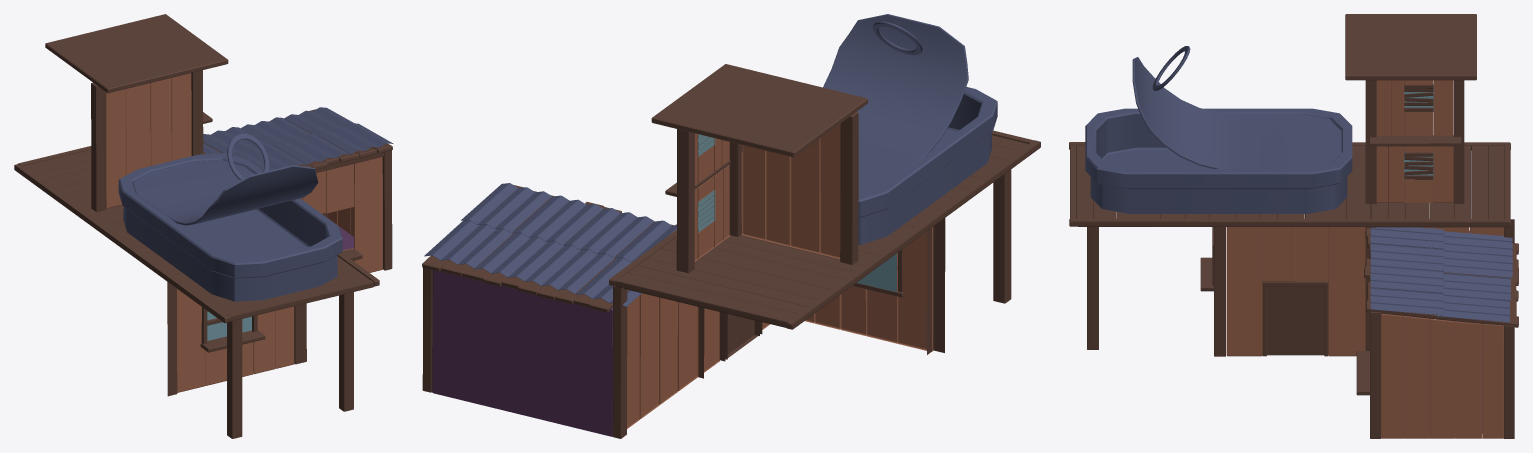
Rendered from GPE_Cabane 1.fbx.
The picture shows the model from 3 angles, left to right: view 1: azimuth 30°, elevation 25°; view 2: azimuth 150°, elevation 25°; view 3: azimuth 270°, elevation 25°; orthographic projection. The views are drawn at different scales.
Parts seen in each view (by area): view 1: METALBoiteConserve, Batpart05, METALCouvercleConserve, WOOD_01_Planche_Toit_56, WOOD01Planche_Toit_48, Planche_Toit_101, WOOD01Planche_Toit_174, WOOD01Planche_Toit_172, Planche_Toit_186, Poto_04, WOOD01Planche_Toit_171, Poto_01 (+27 smaller); view 2: BlockDerriere, METALCouvercleConserve, Batpart05, METALBoiteConserve, Planche_Toit_101, WOOD01Planche_Toit_48, WOOD01Planche_Toit_172, Planche_Toit_186, WOOD01Planche_Toit_174, Planche_Toit_185, METALToiture_Taule_03, METALToiture_Taule_02 (+33 smaller); view 3: METALBoiteConserve, METALCouvercleConserve, Batpart05, WOOD01Planche_Toit_24, WOOD01Planche_Toit_22, Porte_BatPart_01, Planche_Toit_125, WOOD01Planche_Toit_290, WOOD_01_Planche_Toit_92, WOOD_01_Planche_Toit_91, WOOD_01_Planche_Toit_87, WOOD_01_Planche_Toit_95 (+37 smaller).
Part boxes in pixels (x1,y1,x2,y2): METALBoiteConserve: (118,153,342,301); Batpart05: (45,14,228,93); METALCouvercleConserve: (133,160,318,225); WOOD_01_Planche_Toit_56: (354,157,382,272); WOOD01Planche_Toit_48: (177,289,205,392); Planche_Toit_101: (14,164,229,323); WOOD01Planche_Toit_174: (106,89,125,208); WOOD01Planche_Toit_172: (126,83,150,175); Planche_Toit_186: (91,82,106,212); Poto_04: (227,319,242,438); WOOD01Planche_Toit_171: (150,78,171,165); Poto_01: (339,292,353,411); BlockDerriere: (432,270,612,436); METALCouvercleConserve: (823,14,968,193); Batpart05: (651,64,867,157); METALBoiteConserve: (858,87,997,244); Planche_Toit_101: (786,140,1040,329); WOOD01Planche_Toit_48: (897,227,932,351); WOOD01Planche_Toit_172: (790,139,819,253); Planche_Toit_186: (840,112,858,264); WOOD01Planche_Toit_174: (819,123,840,258); Planche_Toit_185: (676,129,694,273); METALToiture_Taule_03: (563,208,654,257); METALToiture_Taule_02: (512,195,603,245); METALBoiteConserve: (1085,108,1352,213); METALCouvercleConserve: (1132,57,1341,168); Batpart05: (1345,14,1476,80); WOOD01Planche_Toit_24: (1328,227,1365,356); WOOD01Planche_Toit_22: (1226,227,1262,356); Porte_BatPart_01: (1267,286,1324,355); Planche_Toit_125: (1069,218,1510,227); WOOD01Planche_Toit_290: (1403,316,1429,438); WOOD_01_Planche_Toit_92: (1454,321,1481,438); WOOD_01_Planche_Toit_91: (1429,319,1454,438); WOOD_01_Planche_Toit_87: (1381,313,1403,438); WOOD_01_Planche_Toit_95: (1482,324,1503,438).
Size of the model in its own units: 1094 by 875 by 1299.
